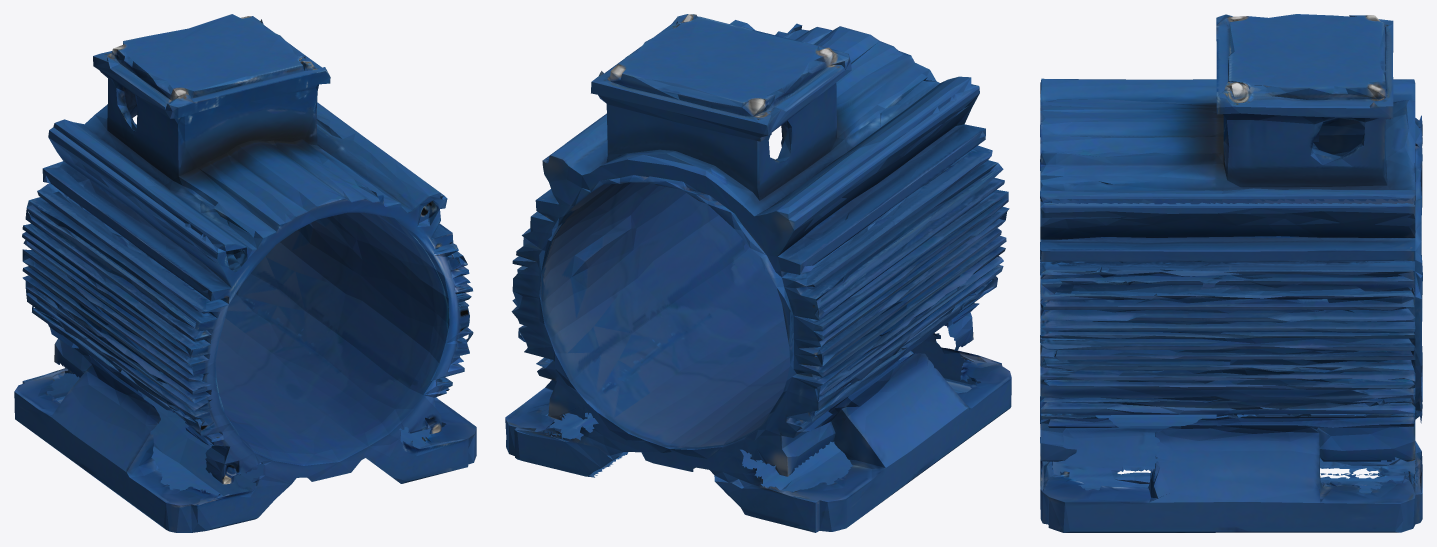
File: Electric_Motor_Casing_0603231012_texture.obj
3 renders of one model, left to right at view 1: azimuth 30°, elevation 25°; view 2: azimuth 150°, elevation 25°; view 3: azimuth 270°, elevation 25°, orthographic. The views are drawn at different scales.
Visible parts, largest first — view 1: Electric_Motor_Casing_0603231012_texture; view 2: Electric_Motor_Casing_0603231012_texture; view 3: Electric_Motor_Casing_0603231012_texture.
Boxes of the visible parts, <box> form: Electric_Motor_Casing_0603231012_texture: <box>14,14,476,532</box>; Electric_Motor_Casing_0603231012_texture: <box>505,14,1011,532</box>; Electric_Motor_Casing_0603231012_texture: <box>1040,14,1422,532</box>.
Bounding box in the file's own units: 1.69 × 1.88 × 1.63.
1 material, 1 textured.
